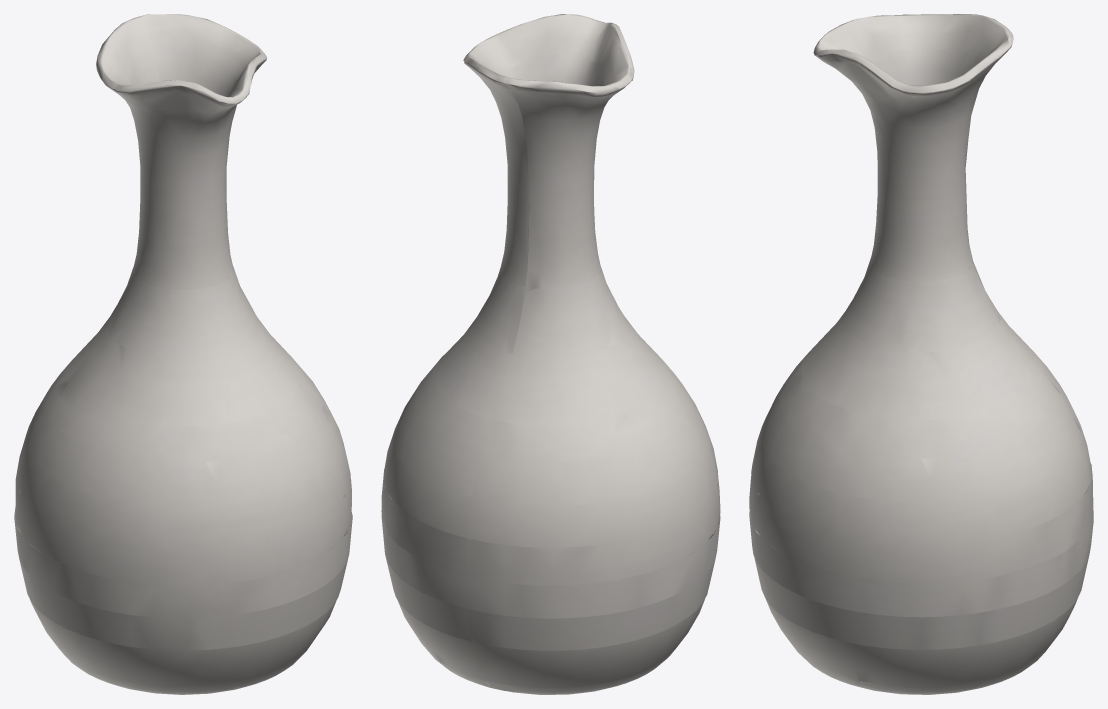
File: ceramic_vase_01.glb
3 renders of one model, left to right at view 1: azimuth 30°, elevation 25°; view 2: azimuth 150°, elevation 25°; view 3: azimuth 270°, elevation 25°, orthographic.
Visible parts, largest first — view 1: ceramic_vase_01; view 2: ceramic_vase_01; view 3: ceramic_vase_01.
Boxes of the visible parts, x1,y1,x2,y2 form: ceramic_vase_01: (14, 14, 352, 694); ceramic_vase_01: (381, 14, 720, 694); ceramic_vase_01: (749, 14, 1093, 694).
Bounding box in the file's own units: 0.2035 × 0.4004 × 0.2036.
Materials: 1 (1 with a texture image).
